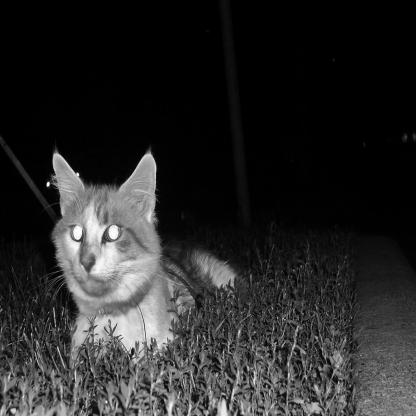cat: (48, 148, 224, 342)
